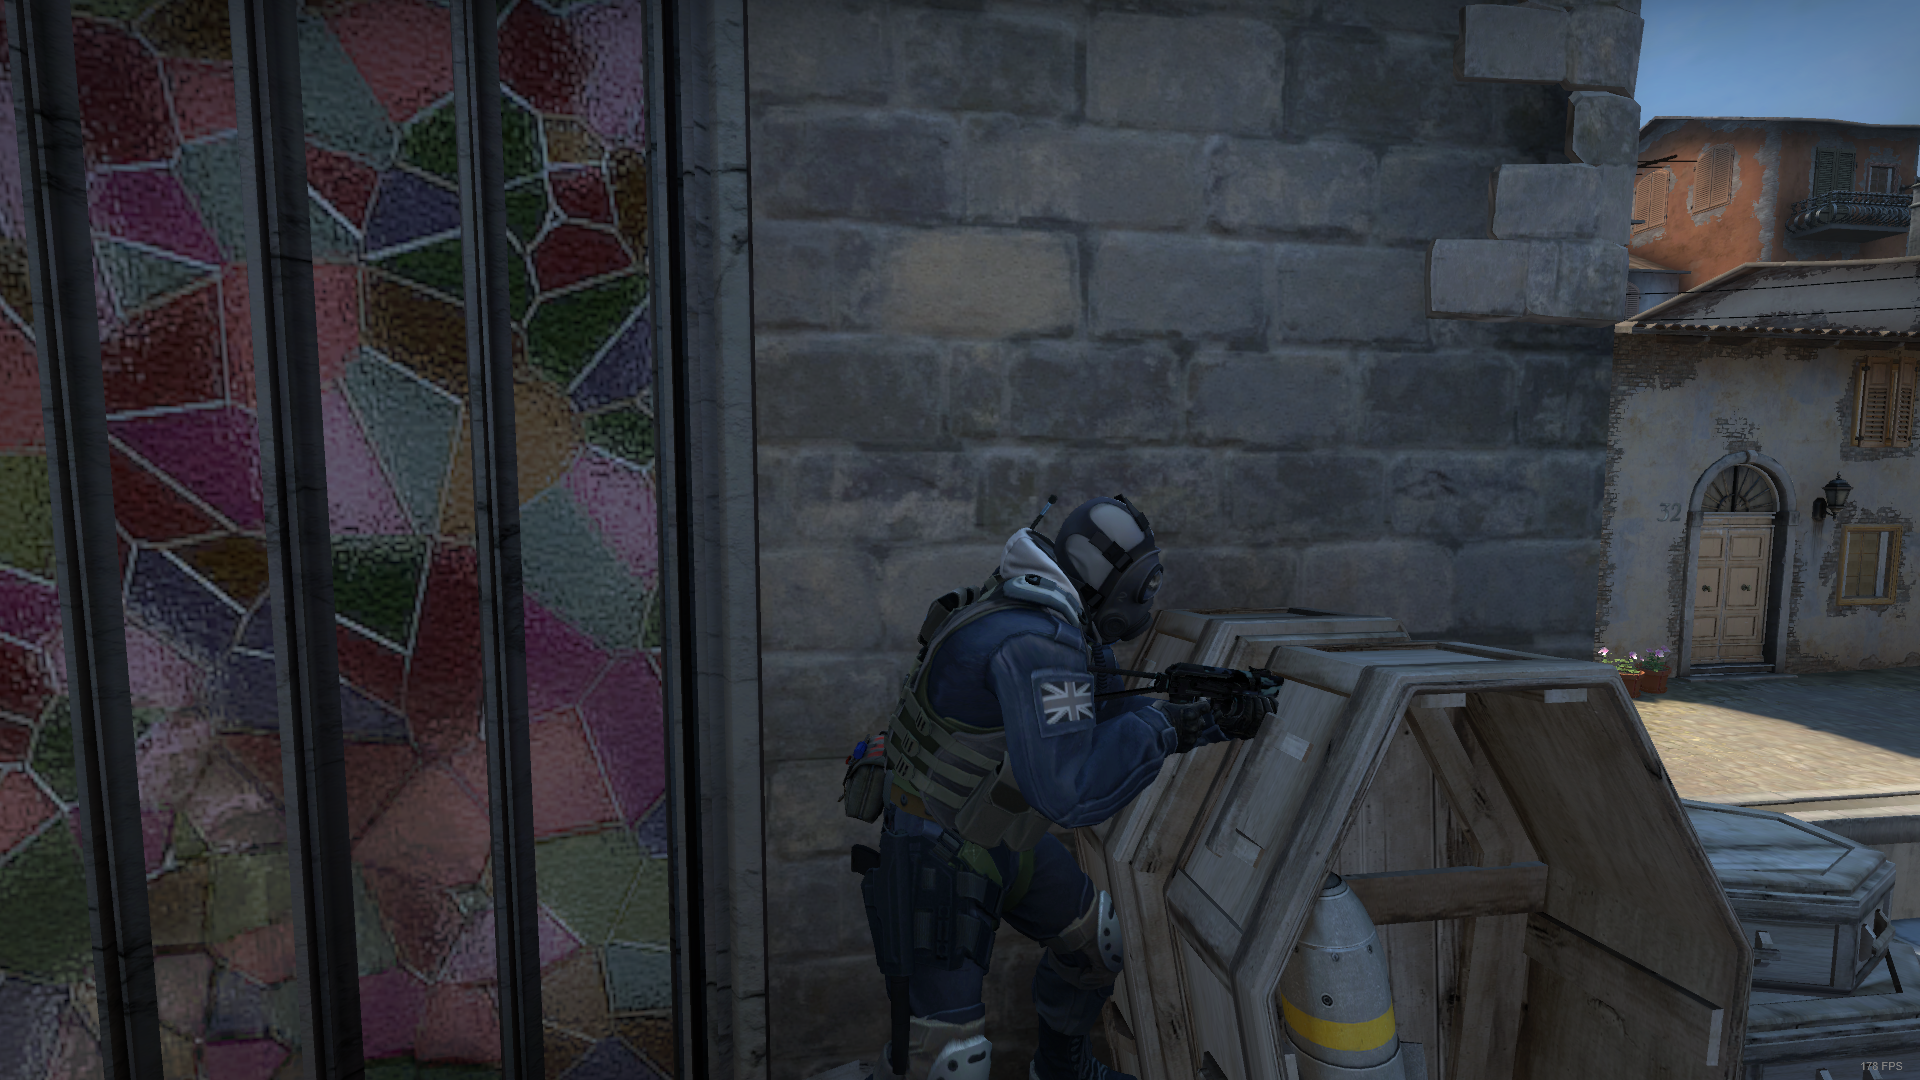ct: (843, 496, 1273, 1080)
